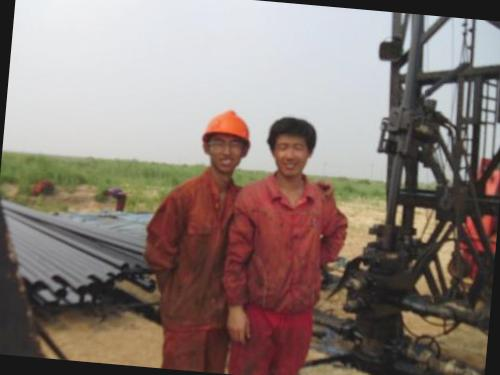no_helmet: (260, 110, 326, 180)
